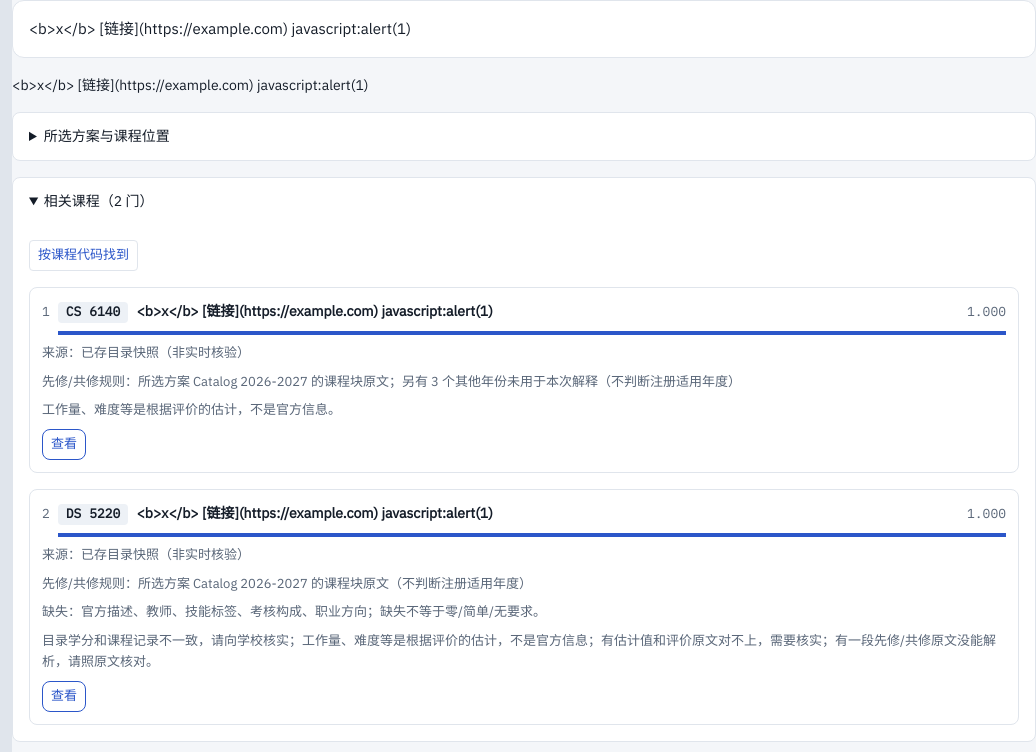
it: untrusted questions, course labels, plan paths, areas, conditions and noncatalog answer URLs stay literal
Click the heading "所选方案与课程位置": (107, 136) [44, 127, 170, 145]
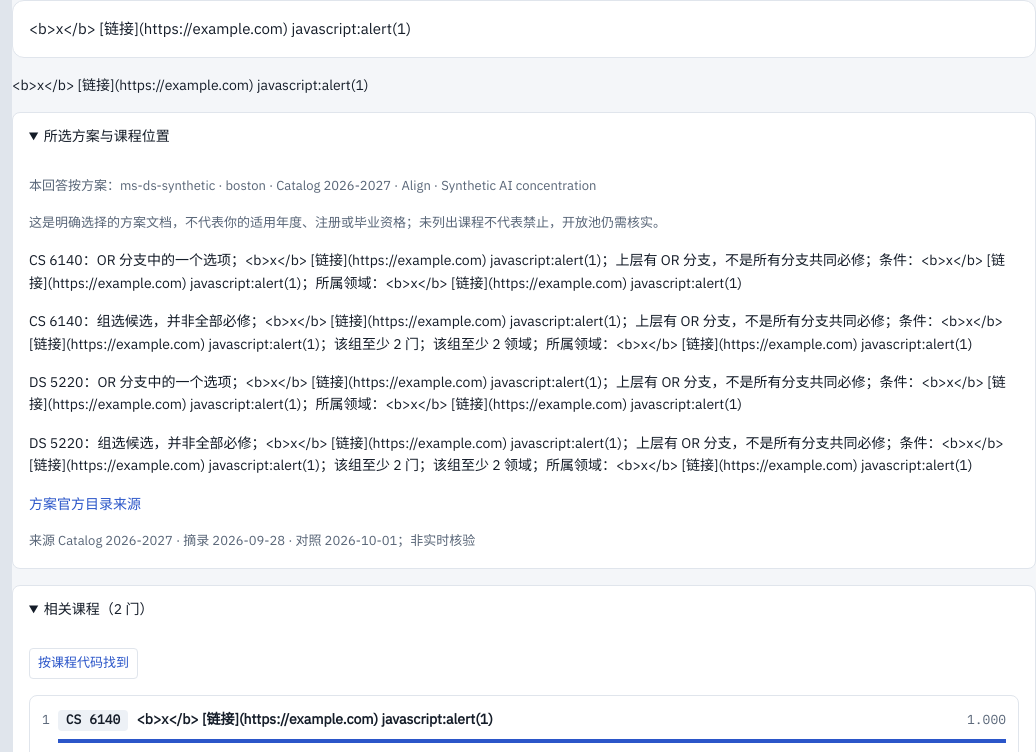
Check: the number of links is 1, box [29, 494, 141, 512]
